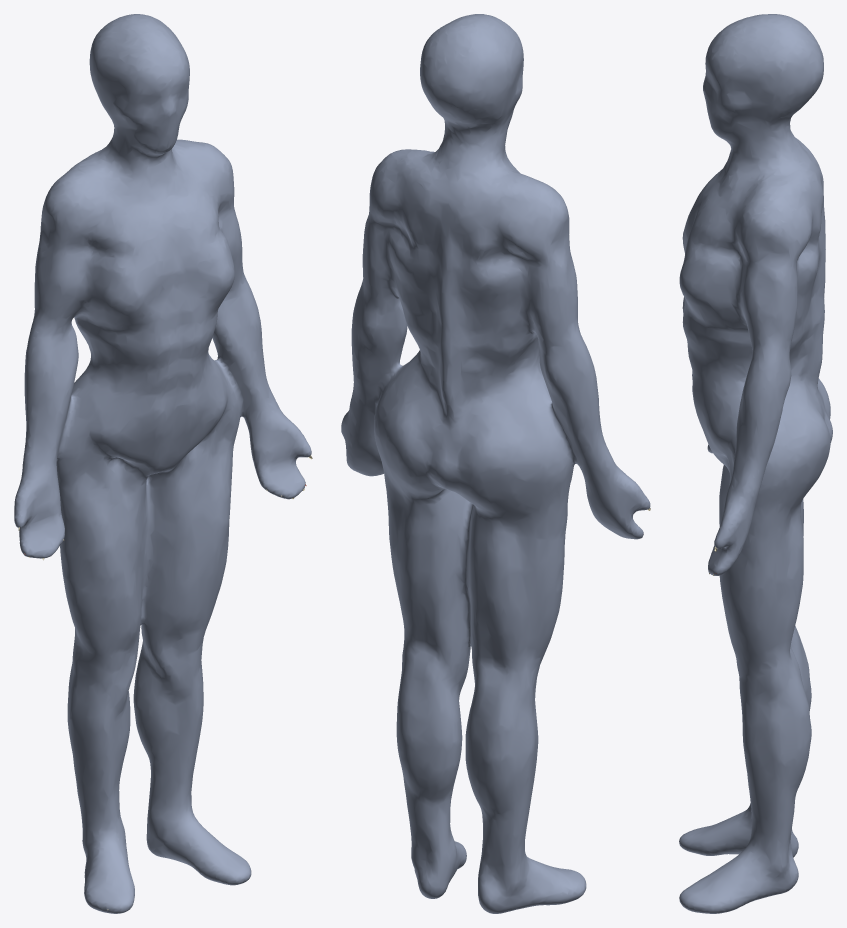
Rendered from female.glb.
3 views of the same model, side by side, from view 1: azimuth 30°, elevation 25°; view 2: azimuth 150°, elevation 25°; view 3: azimuth 270°, elevation 25° (orthographic). The views are drawn at different scales.
Visible parts, largest first — view 1: Skin; view 2: Skin; view 3: Skin.
Part boxes in pixels (box(x1,y1,x2,y2)): Skin: box(14, 14, 311, 913); Skin: box(341, 14, 650, 913); Skin: box(679, 14, 832, 913).
Size of the model in its own units: 0.6055 by 1.67 by 0.2701.
